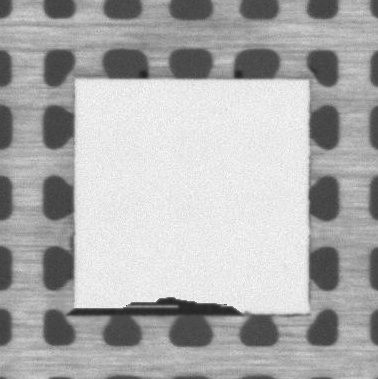DIE_BROKEN: (71, 295, 247, 317)
